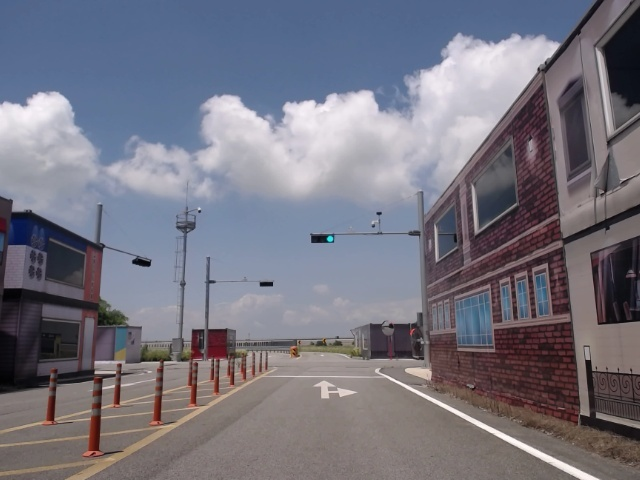green_3: (310, 234, 334, 242)
